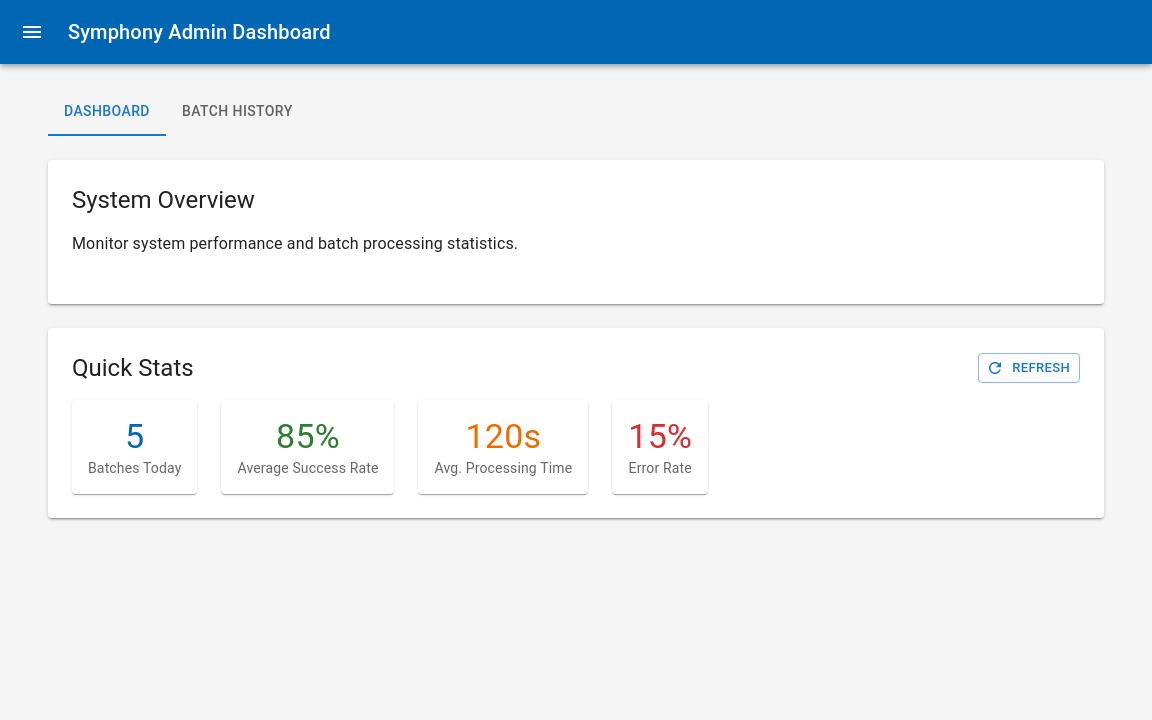
Test case: Dashboard Component › refreshes stats when refresh button is clicked
The image size is (1152, 720).
Check: the heading "5" is shown, box [125,416,144,456]
# Click refresh button
Click the button "Refresh" at (1029, 368), box [978,353,1080,383]
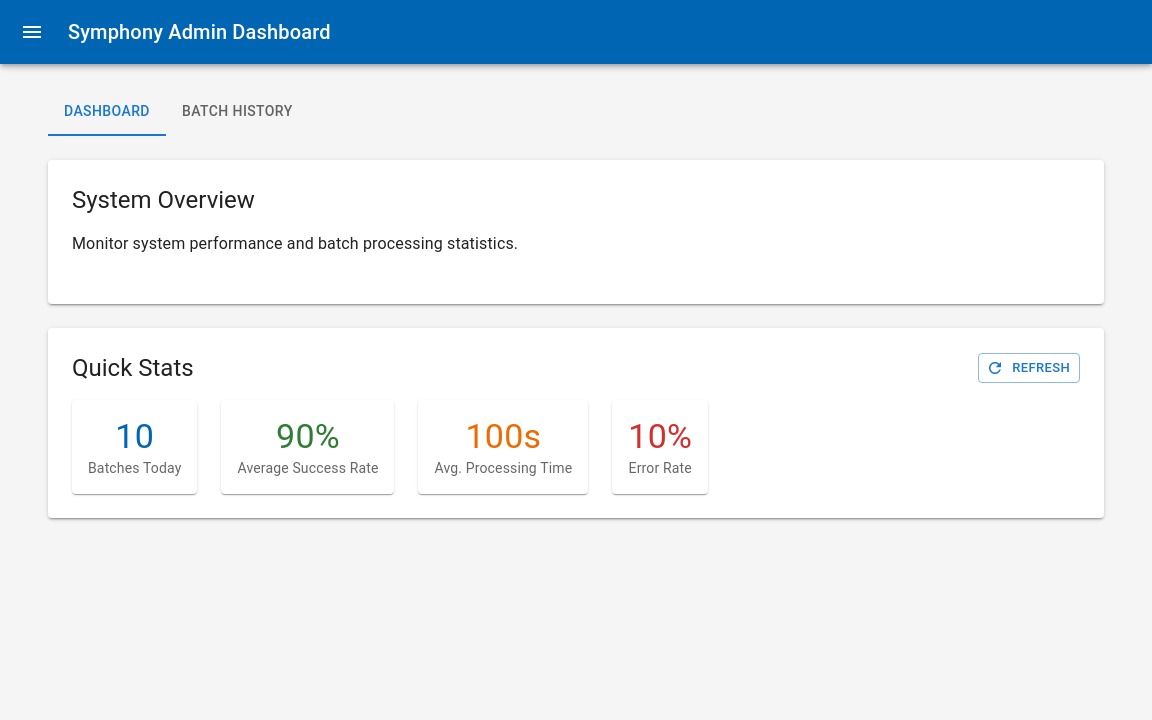
Check: the heading "10" is shown, box [115,416,154,456]
